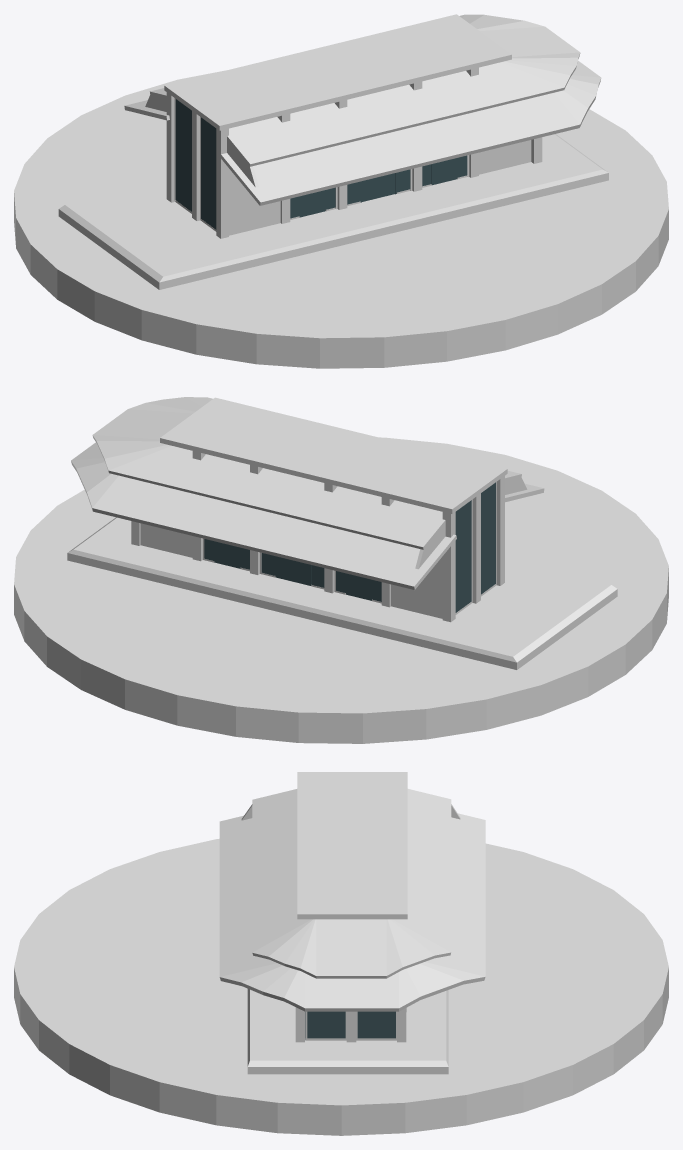
The model's file is pescafinalizada.fbx.
3 views of the same model, one above another, from view 1: azimuth 30°, elevation 25°; view 2: azimuth 150°, elevation 25°; view 3: azimuth 270°, elevation 25° (orthographic).
Parts seen in each view (by area): view 1: Cylinder, Cube.006, Cube.082, Cube, Cube.081, Cube.074, Cube.064, Cube.014, Cube.015, Cube.002, Cube.013, Cube.001; view 2: Cylinder, Cube.006, Cube.082, Cube, Cube.081, Cube.004, Cube.064, Cube.014, Cube.013, Cube.000, Cube.001, Cube.015; view 3: Cylinder, Cube.082, Cube.081, Cube, Cube.006, Cube.068, Cube.070.
Part boxes in pixels (<box>): Cylinder: <box>14,70,668,368</box>; Cube.006: <box>58,134,608,289</box>; Cube.082: <box>145,14,580,187</box>; Cube: <box>164,14,511,130</box>; Cube.081: <box>124,60,601,205</box>; Cube.074: <box>229,169,280,235</box>; Cube.064: <box>175,99,191,211</box>; Cube.014: <box>201,117,216,229</box>; Cube.015: <box>216,128,228,238</box>; Cube.002: <box>479,140,531,174</box>; Cube.013: <box>166,92,175,202</box>; Cube.001: <box>192,111,200,220</box>; Cylinder: <box>14,437,668,743</box>; Cube.006: <box>67,517,617,669</box>; Cube.082: <box>92,397,527,569</box>; Cube: <box>160,397,507,513</box>; Cube.081: <box>71,442,544,589</box>; Cube.004: <box>391,556,442,618</box>; Cube.064: <box>455,500,471,612</box>; Cube.014: <box>481,482,495,594</box>; Cube.013: <box>442,512,455,622</box>; Cube.000: <box>140,523,192,557</box>; Cube.001: <box>472,493,480,603</box>; Cube.015: <box>496,476,504,585</box>; Cylinder: <box>14,838,668,1135</box>; Cube.082: <box>241,789,460,978</box>; Cube.081: <box>219,813,485,1011</box>; Cube: <box>297,772,407,919</box>; Cube.006: <box>247,989,448,1074</box>; Cube.068: <box>305,1011,345,1039</box>; Cube.070: <box>357,1011,395,1038</box>.
Size of the model in its own units: 5331 by 1395 by 5331.
